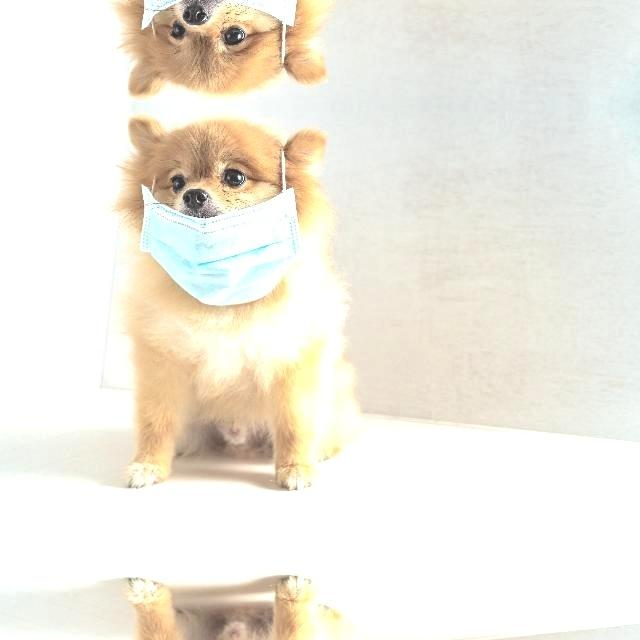dog: (78, 107, 358, 520), (78, 0, 358, 105), (78, 546, 358, 640)
